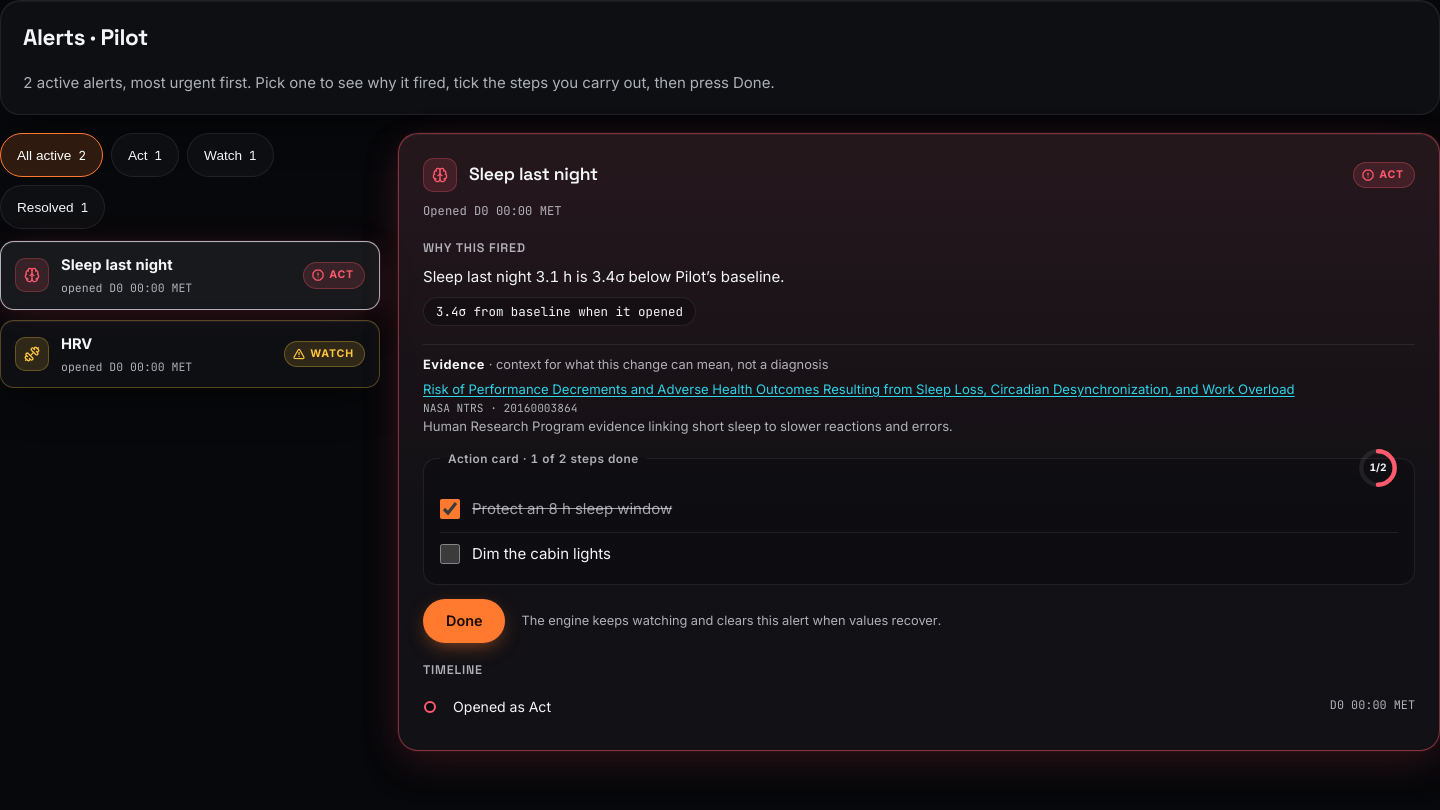
filters by Act, Watch and Resolved
Click the button "Watch 1".
click(230, 155)  # box left=187, top=133, right=274, bottom=177
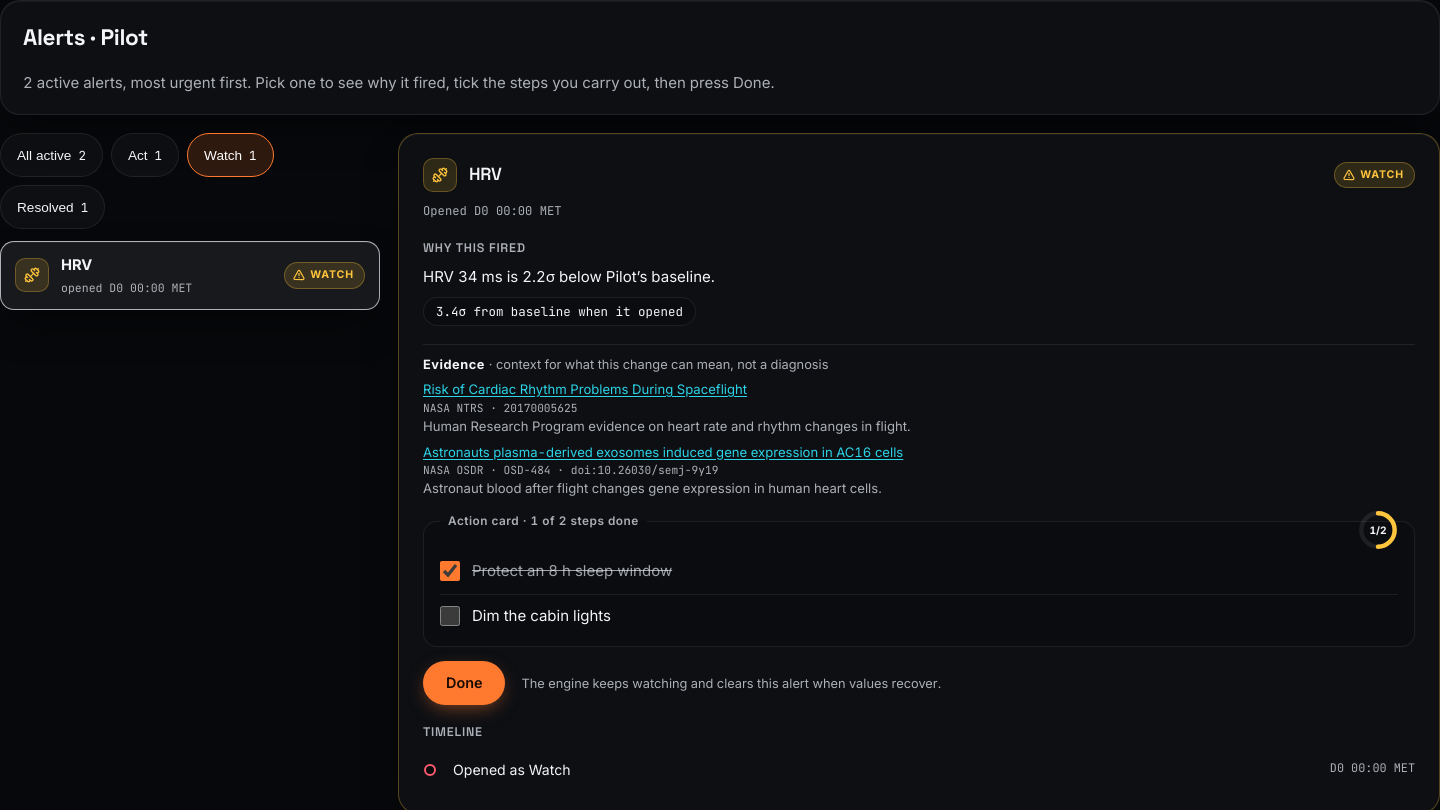
Click the button "Resolved 1".
click(53, 207)  # box left=0, top=185, right=105, bottom=229
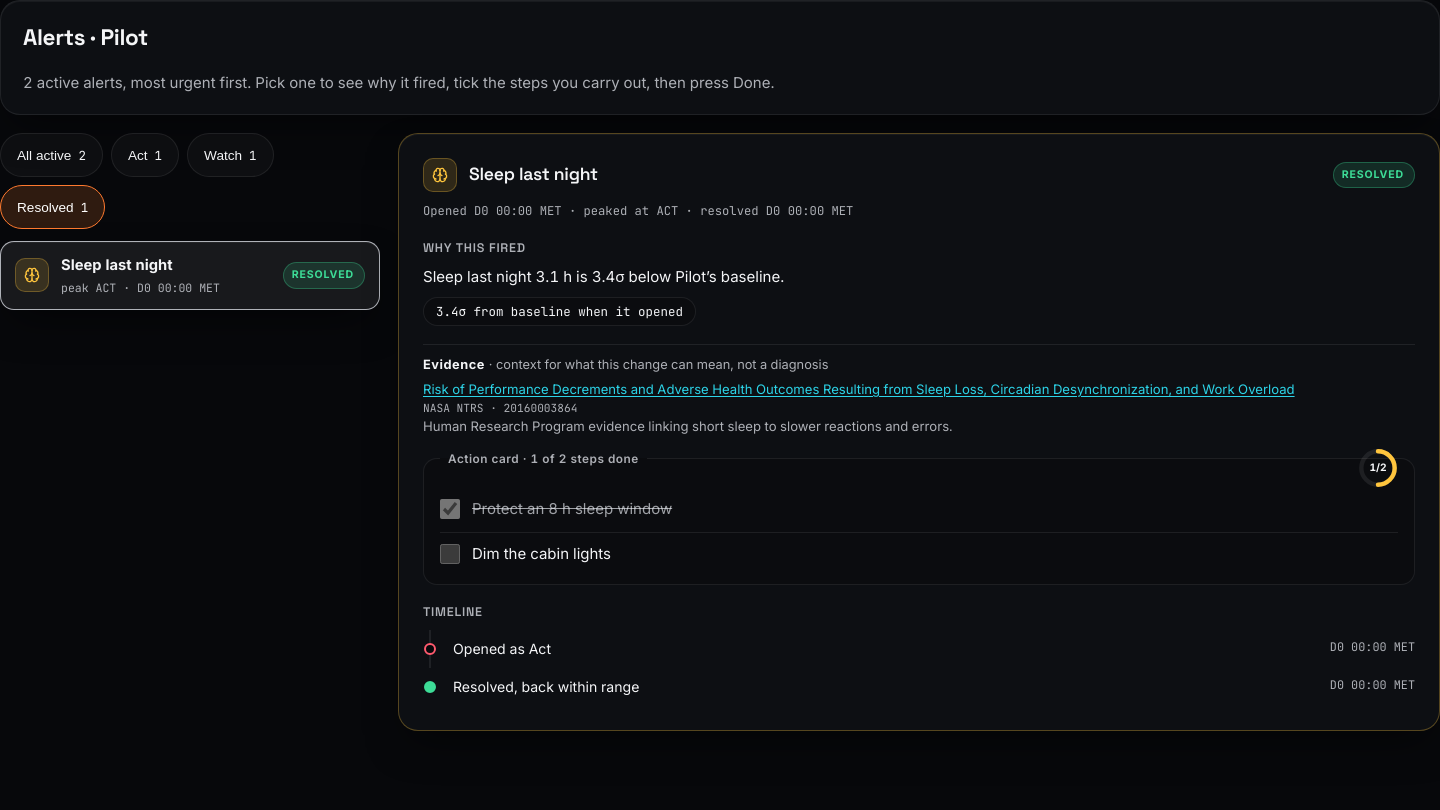
Expected: the text "peak ACT · D0 00:00 MET" is shown, left=61, top=280, right=220, bottom=295
